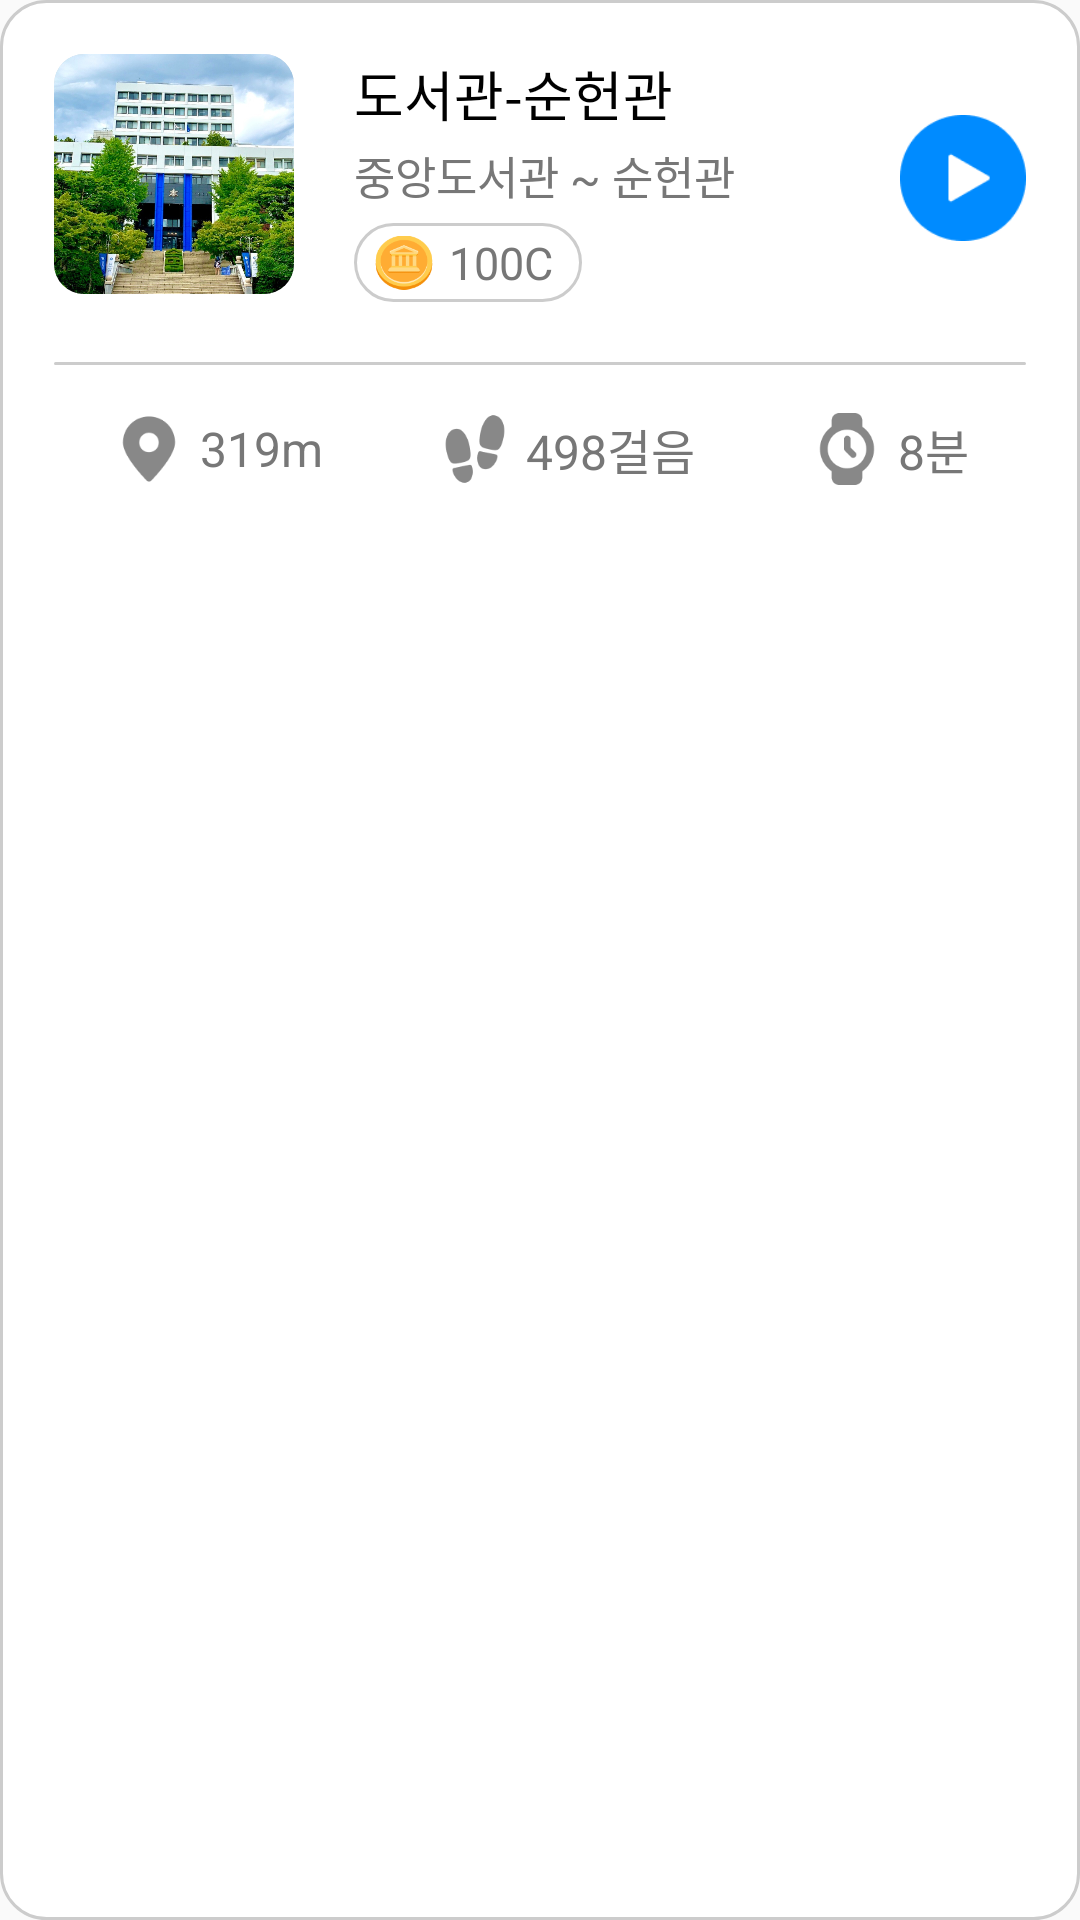

Named icons in this screenshot (1080w x 1920h) and their centers, (x=x, y=y):
coin: (x=404, y=263)
footsteps: (x=475, y=449)
marker: (x=149, y=449)
startbtn: (x=963, y=178)
watch: (x=847, y=449)
